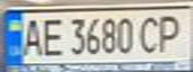0: (115, 15, 139, 54)
3: (63, 15, 87, 56)
6: (84, 15, 103, 56)
8: (100, 15, 121, 55)
A: (18, 15, 45, 57)
C: (136, 12, 166, 54)
E: (39, 15, 66, 58)
P: (154, 11, 190, 54)
